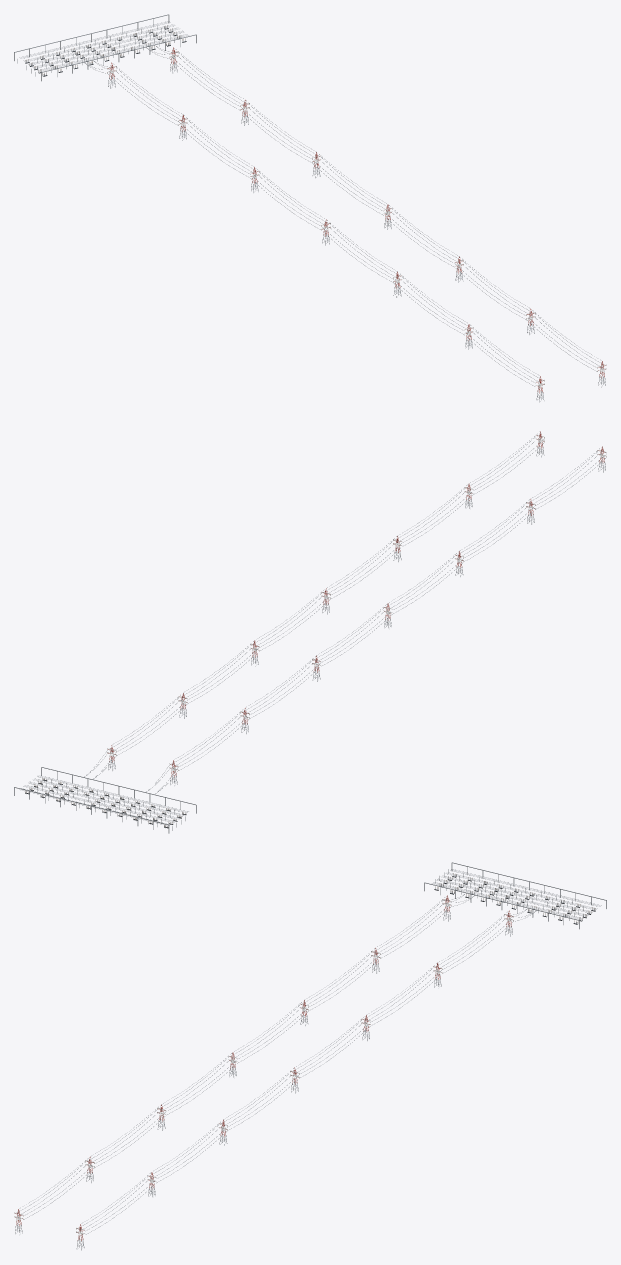
The model's file is electrical-infrastructure.glb.
3 renders of one model, top to bottom at view 1: azimuth 30°, elevation 25°; view 2: azimuth 150°, elevation 25°; view 3: azimuth 330°, elevation 25°, orthographic.
Visible parts, largest first — view 1: electrical__steel, electrical__steel_dark, electrical__pylon_red; view 2: electrical__steel, electrical__steel_dark, electrical__pylon_red; view 3: electrical__steel, electrical__steel_dark, electrical__pylon_red.
Boxes of the visible parts, x1,y1,x2,y2 form: electrical__steel: (14, 14, 605, 402); electrical__steel_dark: (25, 28, 601, 386); electrical__pylon_red: (108, 47, 605, 392); electrical__steel: (14, 446, 605, 833); electrical__steel_dark: (25, 436, 606, 828); electrical__pylon_red: (108, 431, 605, 776); electrical__steel: (15, 862, 606, 1250); electrical__steel_dark: (19, 876, 595, 1234); electrical__pylon_red: (15, 895, 512, 1240).
Size of the model in its own units: 301 by 46.12 by 1617.
